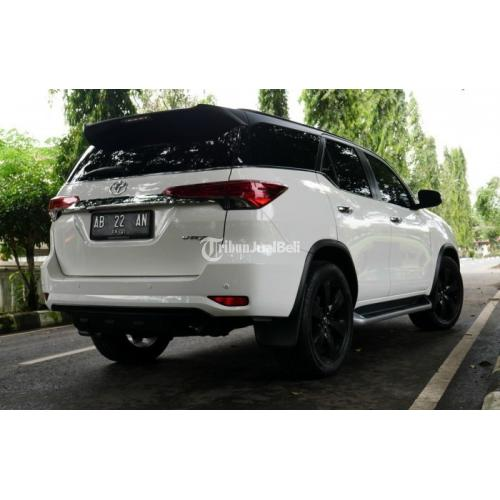plate: (92, 214, 148, 235)
